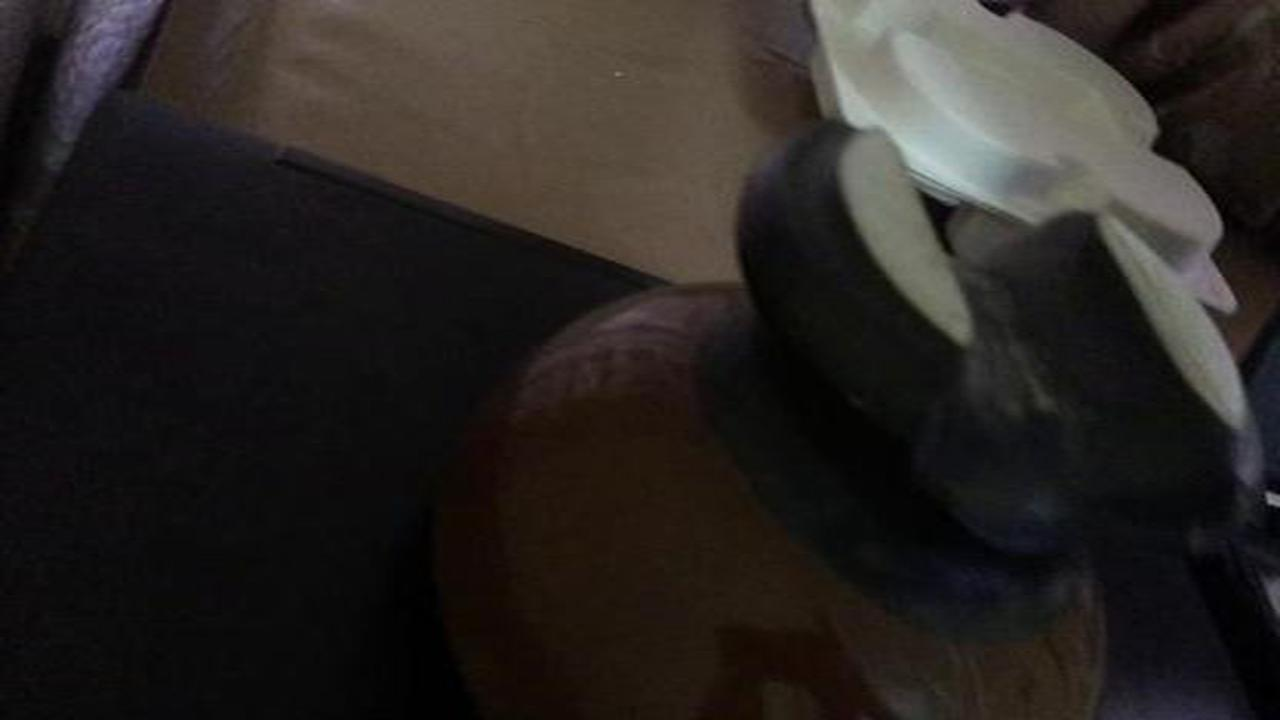insulator_pin: (412, 111, 1274, 715)
